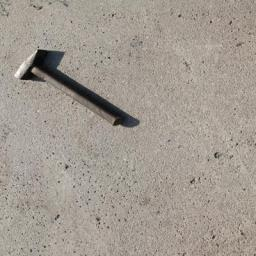FOD: (14, 48, 142, 130)
